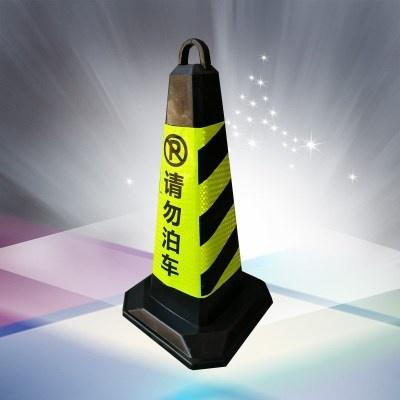cone_barrel: (121, 42, 270, 376)
